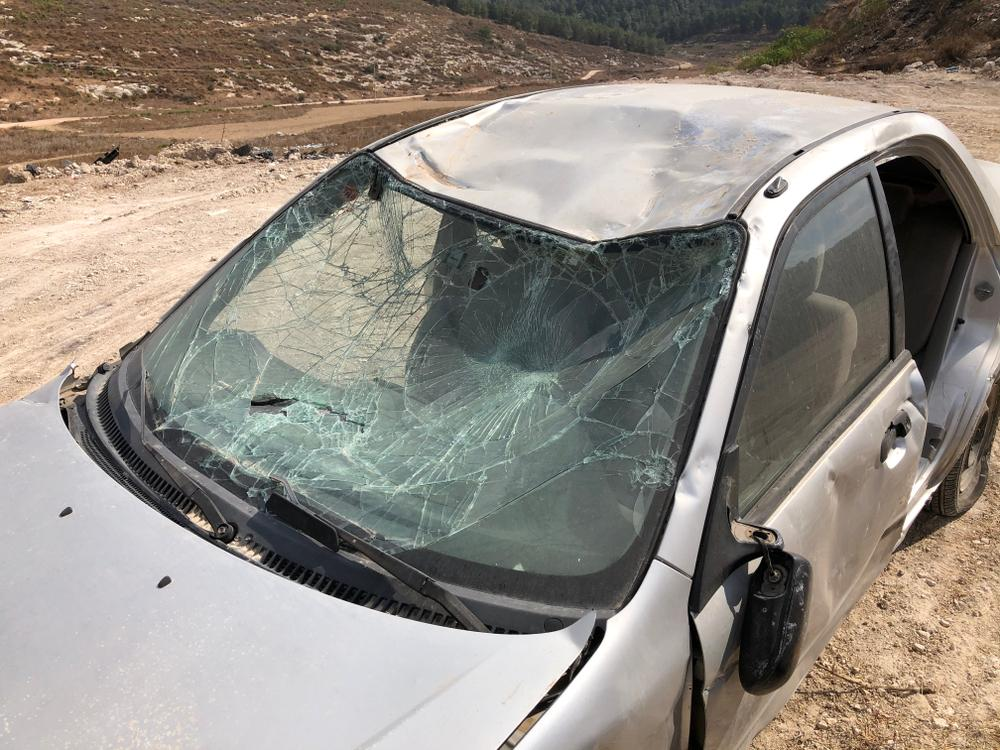dent: (376, 98, 798, 241), (821, 472, 867, 611), (679, 440, 719, 502)
glass shatter: (125, 154, 742, 619)
